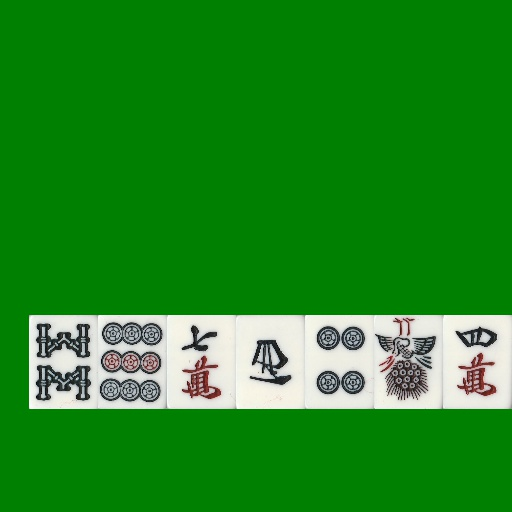1s: (374, 315, 443, 409)
4m: (443, 315, 512, 409)
4p: (305, 315, 374, 409)
7m: (167, 315, 236, 409)
8s: (29, 315, 98, 409)
9p: (98, 315, 167, 409)
west: (236, 315, 305, 409)
